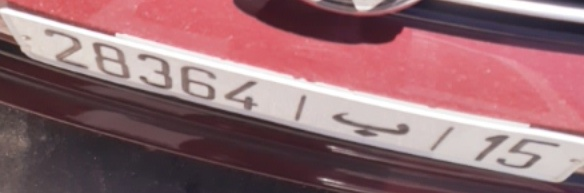1: (470, 128, 509, 169)
2: (42, 26, 86, 69)
3: (136, 53, 177, 92)
4: (224, 75, 262, 116)
5: (500, 135, 565, 172)
6: (179, 64, 219, 100)
8: (91, 40, 130, 81)
b: (326, 105, 419, 142)
